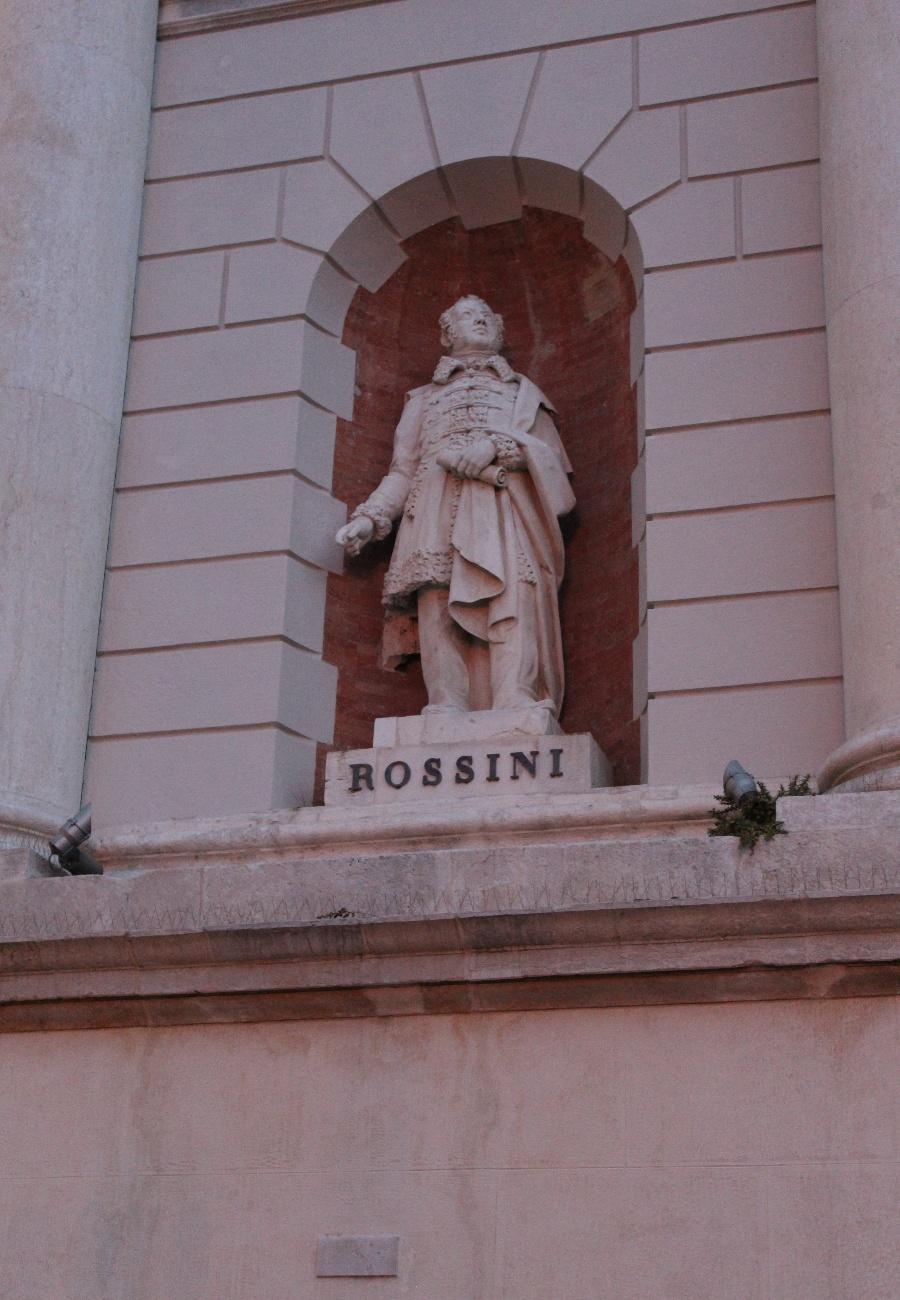Gioachino Rossini: (296, 153, 641, 803)
